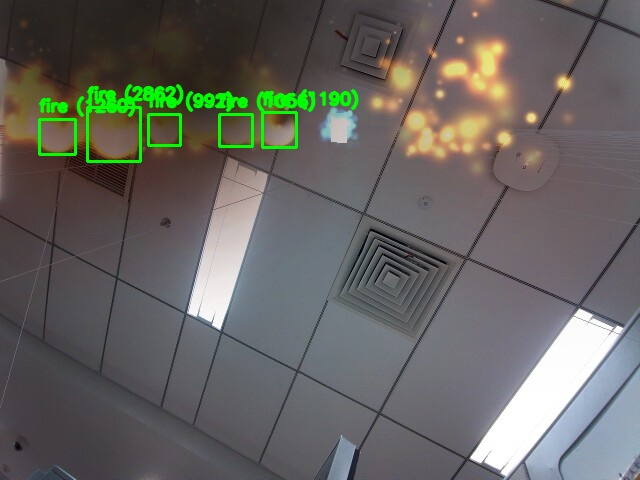fire: (87, 107, 140, 161), (39, 119, 75, 154), (262, 112, 296, 147), (219, 114, 252, 146), (148, 114, 180, 145)
